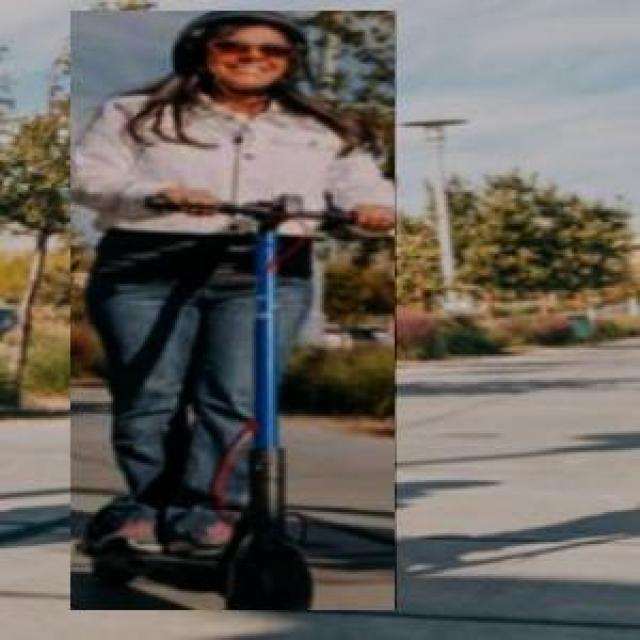pedestrian: (72, 11, 399, 610)
